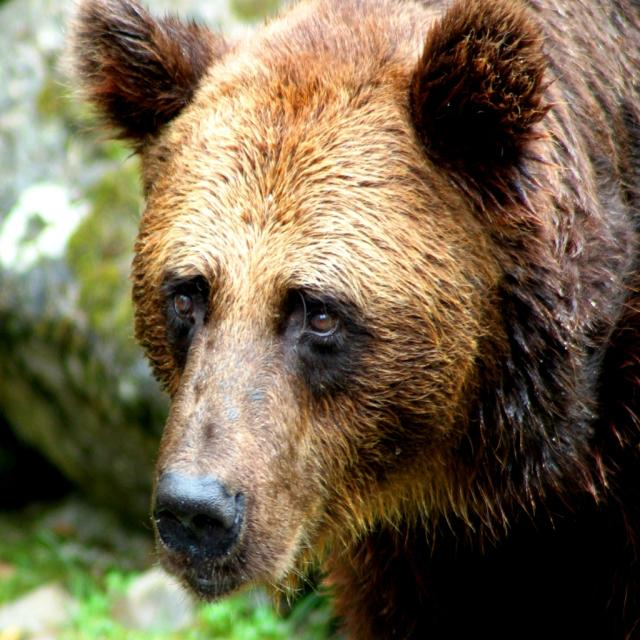Cheetahs: (43, 0, 640, 640)
